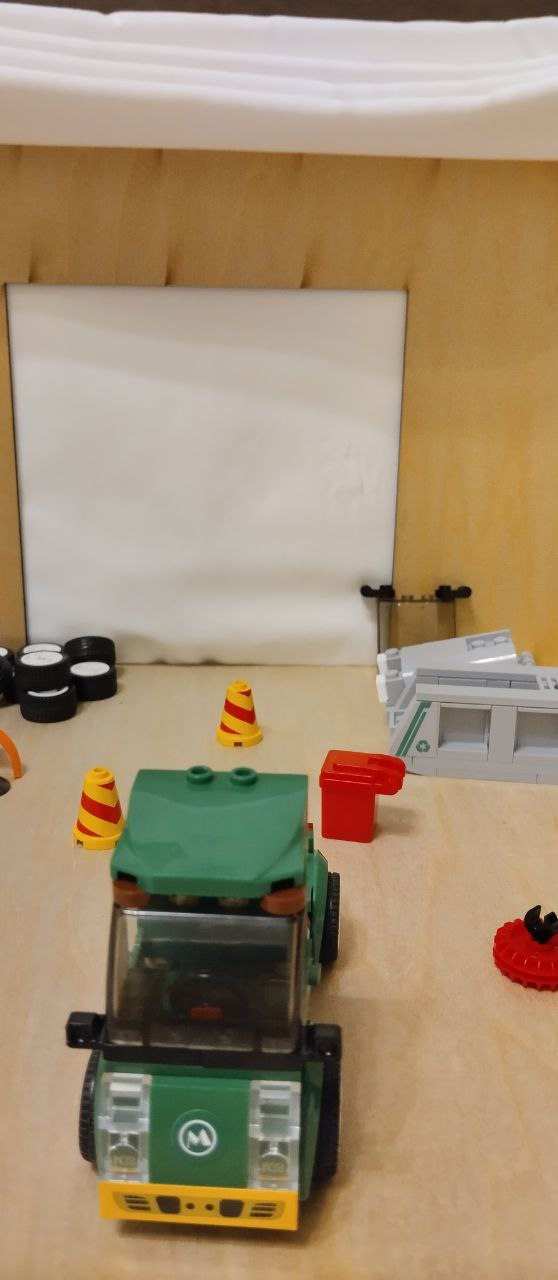Cone: (67, 765, 139, 853), (215, 676, 268, 753)
Object Red: (314, 746, 414, 854)
Truck: (52, 760, 366, 1240)
